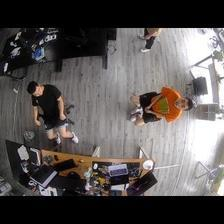normal: (24, 79, 82, 143), (129, 86, 194, 127)
